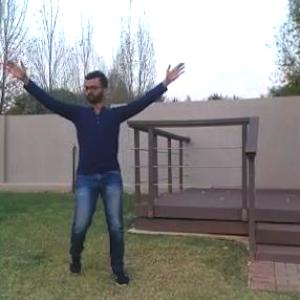takeoff: (0, 53, 189, 288)
